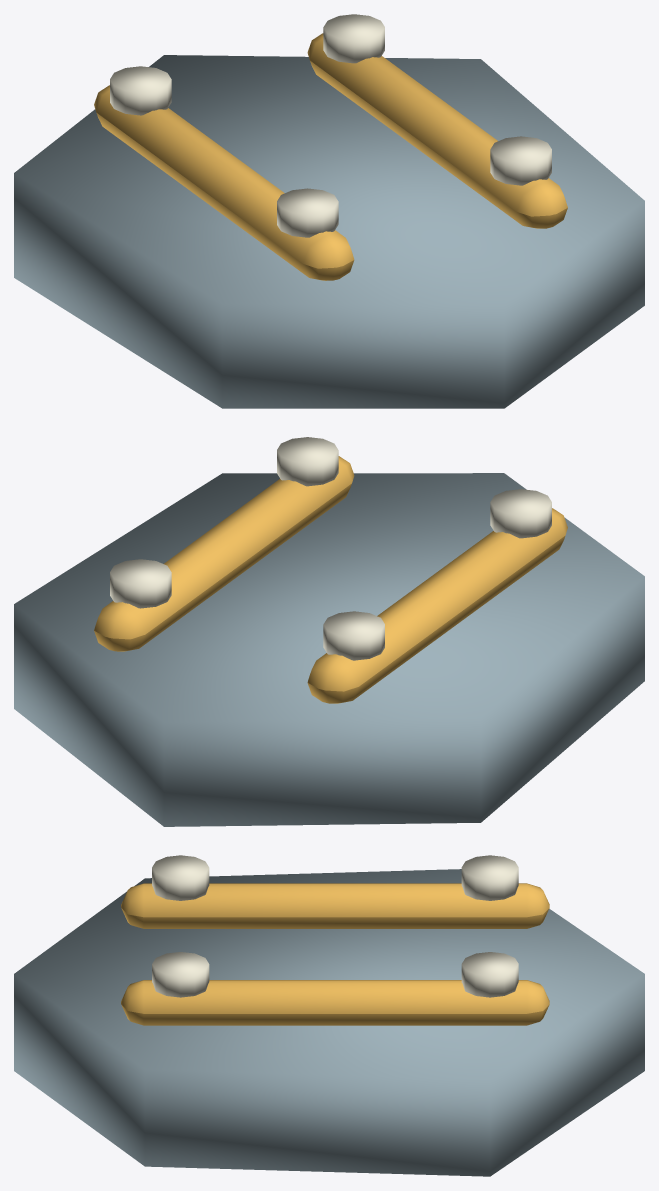
The model's file is fortify.glb.
3 renders of one model, top to bottom at view 1: azimuth 30°, elevation 25°; view 2: azimuth 150°, elevation 25°; view 3: azimuth 270°, elevation 25°, orthographic. The views are drawn at different scales.
Visible parts, largest first — view 1: Reinforcement plate, Steel brace.001, Steel brace, Rivet.003, Rivet.001, Rivet, Rivet.002; view 2: Reinforcement plate, Steel brace.001, Steel brace, Rivet.003, Rivet, Rivet.001, Rivet.002; view 3: Reinforcement plate, Steel brace.001, Steel brace, Rivet, Rivet.001, Rivet.003, Rivet.002.
Part boxes in pixels (left/top/right/bottom): Reinforcement plate: left=14, top=55, right=644, bottom=408; Steel brace.001: left=307, top=33, right=567, bottom=228; Steel brace: left=94, top=85, right=354, bottom=280; Rivet.003: left=323, top=14, right=384, bottom=63; Rivet.001: left=110, top=66, right=171, bottom=115; Rivet: left=277, top=188, right=338, bottom=237; Rivet.002: left=490, top=136, right=551, bottom=185; Reinforcement plate: left=14, top=473, right=644, bottom=826; Steel brace.001: left=94, top=456, right=354, bottom=651; Steel brace: left=307, top=508, right=567, bottom=703; Rivet.003: left=110, top=559, right=171, bottom=608; Rivet: left=490, top=489, right=551, bottom=538; Rivet.001: left=323, top=611, right=384, bottom=660; Rivet.002: left=277, top=437, right=338, bottom=486; Reinforcement plate: left=14, top=869, right=644, bottom=1176; Steel brace.001: left=121, top=980, right=549, bottom=1025; Steel brace: left=121, top=883, right=549, bottom=928; Rivet: left=152, top=855, right=209, bottom=900; Rivet.001: left=461, top=855, right=518, bottom=900; Rivet.003: left=461, top=952, right=518, bottom=997; Rivet.002: left=152, top=952, right=209, bottom=997.
Size of the model in its own units: 2.1 by 0.72 by 2.65.
